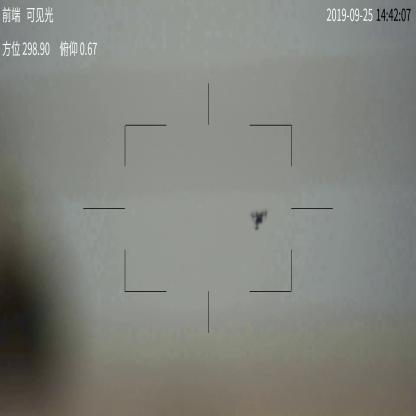uav: (249, 208, 270, 231)
